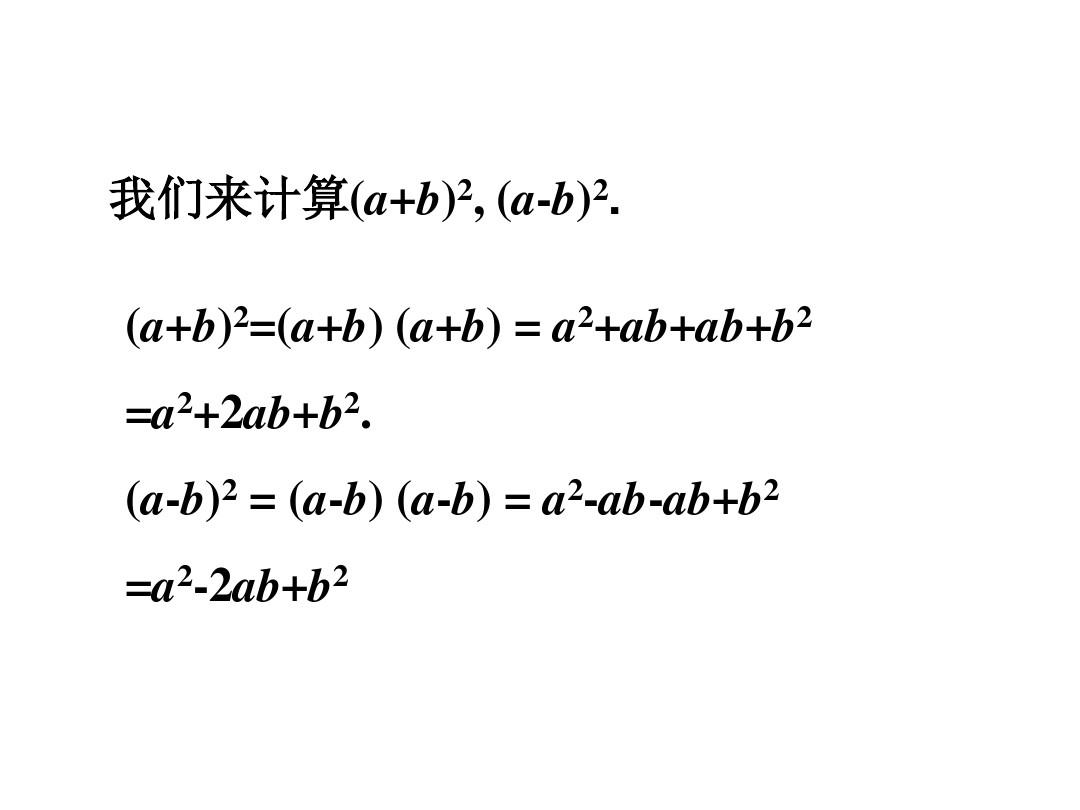square: (340, 389, 368, 419), (793, 302, 819, 331), (328, 563, 356, 588), (221, 473, 243, 503), (173, 389, 197, 416), (562, 476, 587, 500), (761, 478, 784, 502), (457, 173, 476, 201), (589, 178, 612, 201), (231, 300, 248, 331), (576, 302, 594, 329), (175, 563, 194, 587)
